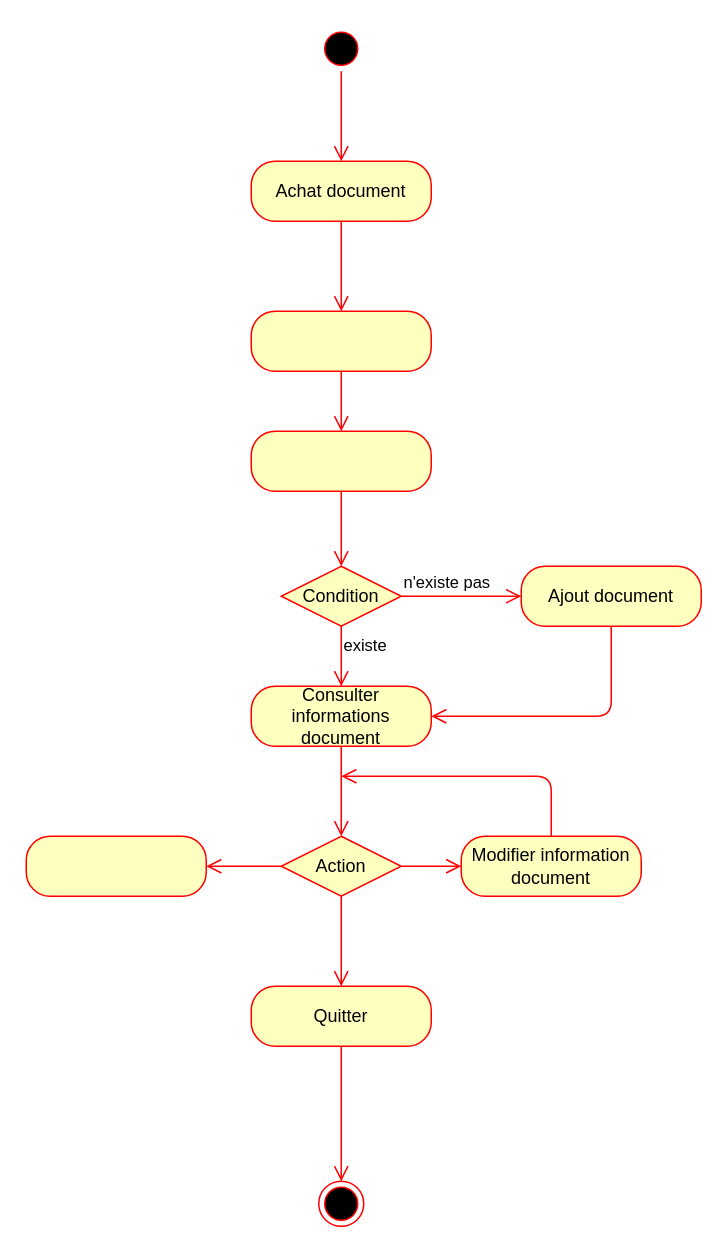
The diagram is 728 pixels wide and 1253 high, and some of its shapes have lost their labels. The centre of each missing label's shape, as x and y in pixels:
Mettre hors service: point 115,865
Réception document: point 340,340
Saisir information document: point 340,460
